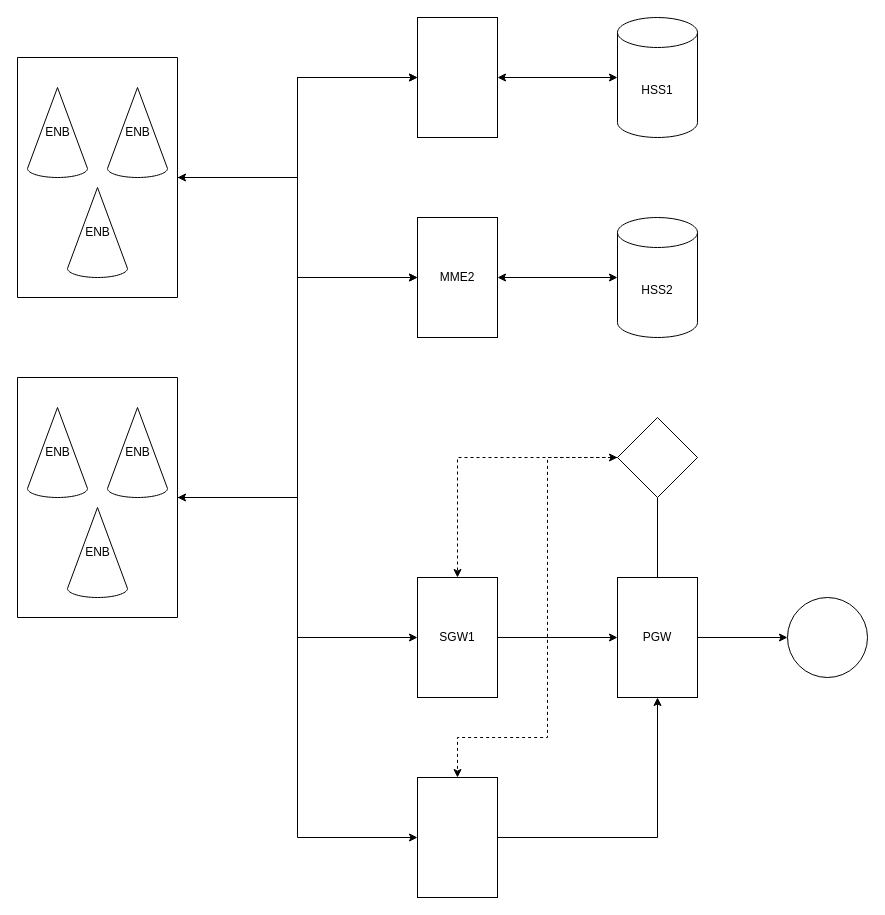
The diagram is 885 pixels wide and 915 high, and some of its shapes have lost their labels. Each missing label, with the box of its shape:
IP: (786, 596, 868, 678)
MME1: (416, 16, 498, 138)
PCRF: (616, 416, 698, 498)
SGW2: (416, 776, 498, 898)
TrackingArea1: (16, 56, 178, 298)
TrackingArea2: (16, 376, 178, 618)
